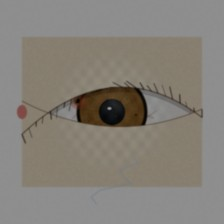foreign_body_visible: (67, 92, 89, 110)
